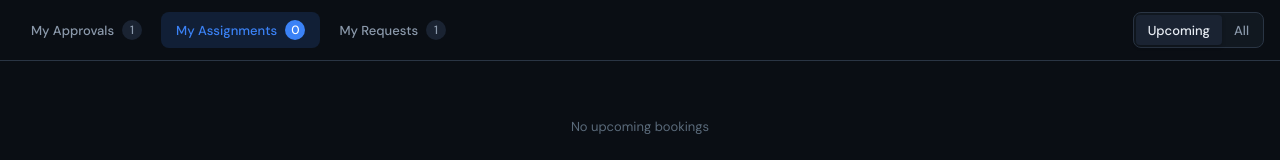
Test: My Assignments › says when there are no bookings
This screenshot has width=1280, height=160.
Expected: the panel reads "No upcoming bookings", left=571, top=118, right=709, bottom=135
Click the button "All".
click(1242, 30)  # box left=1222, top=15, right=1261, bottom=45
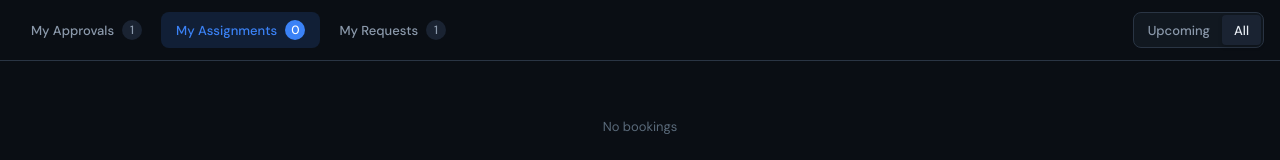
Expected: the panel reads "No bookings", left=603, top=118, right=677, bottom=135
